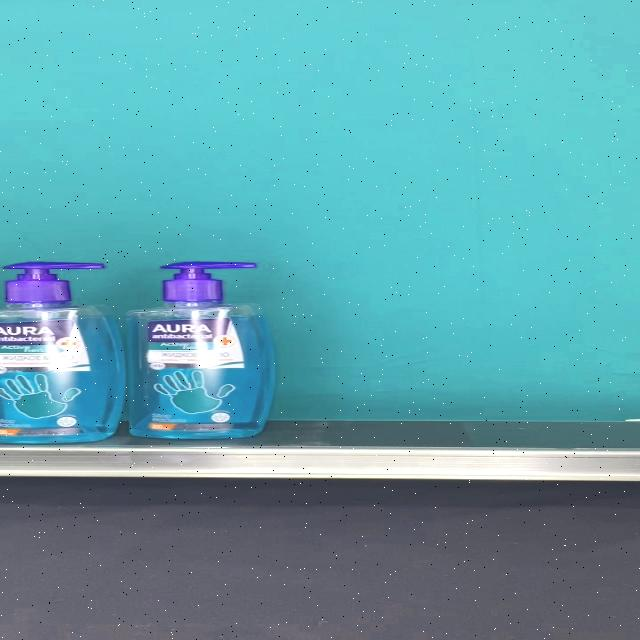Bottle: (126, 262, 276, 438), (0, 262, 126, 444)
Cap: (4, 262, 106, 302), (162, 261, 257, 301)
